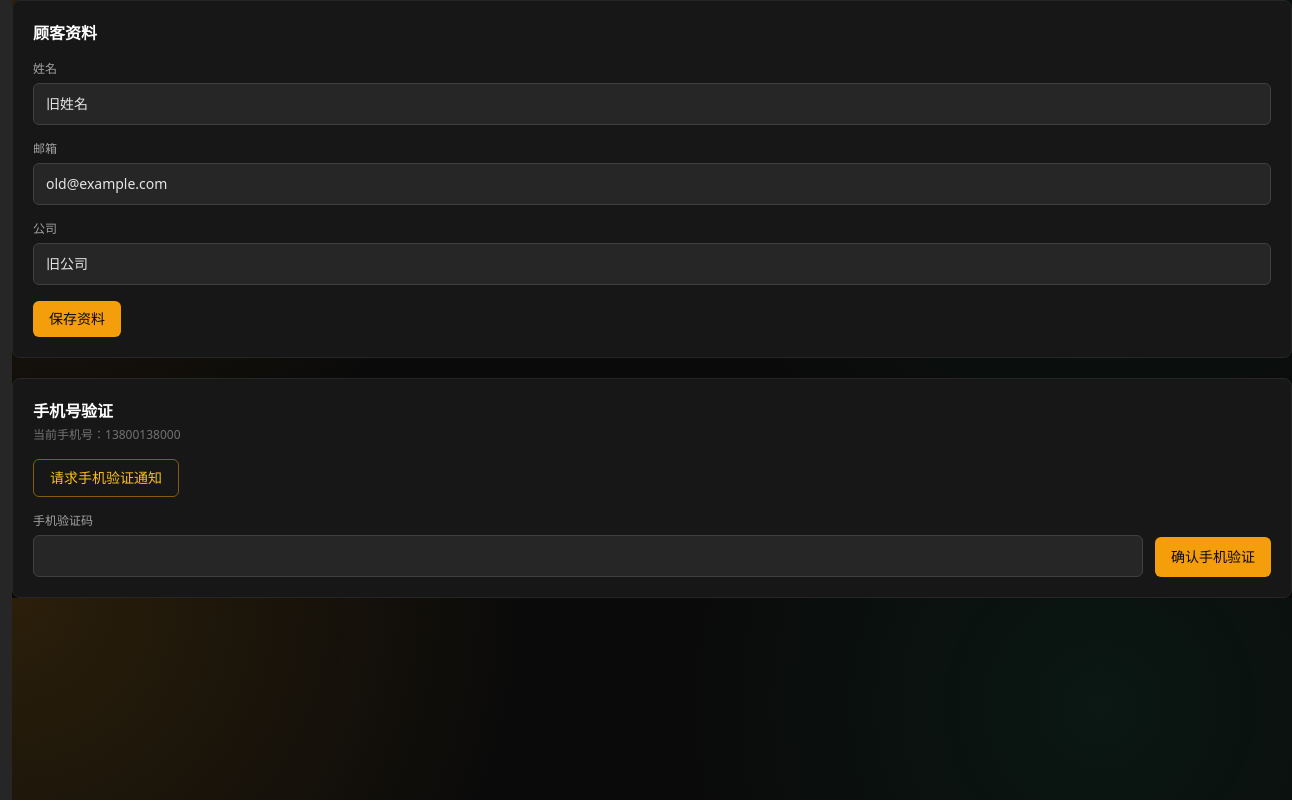
CustomerProfilePanel › updates only the editable customer profile fields and refreshes the account
Step 1. Replace the text in the field labelled "姓名" with "新姓名" → (652, 104), box 33,83 -> 1271,125
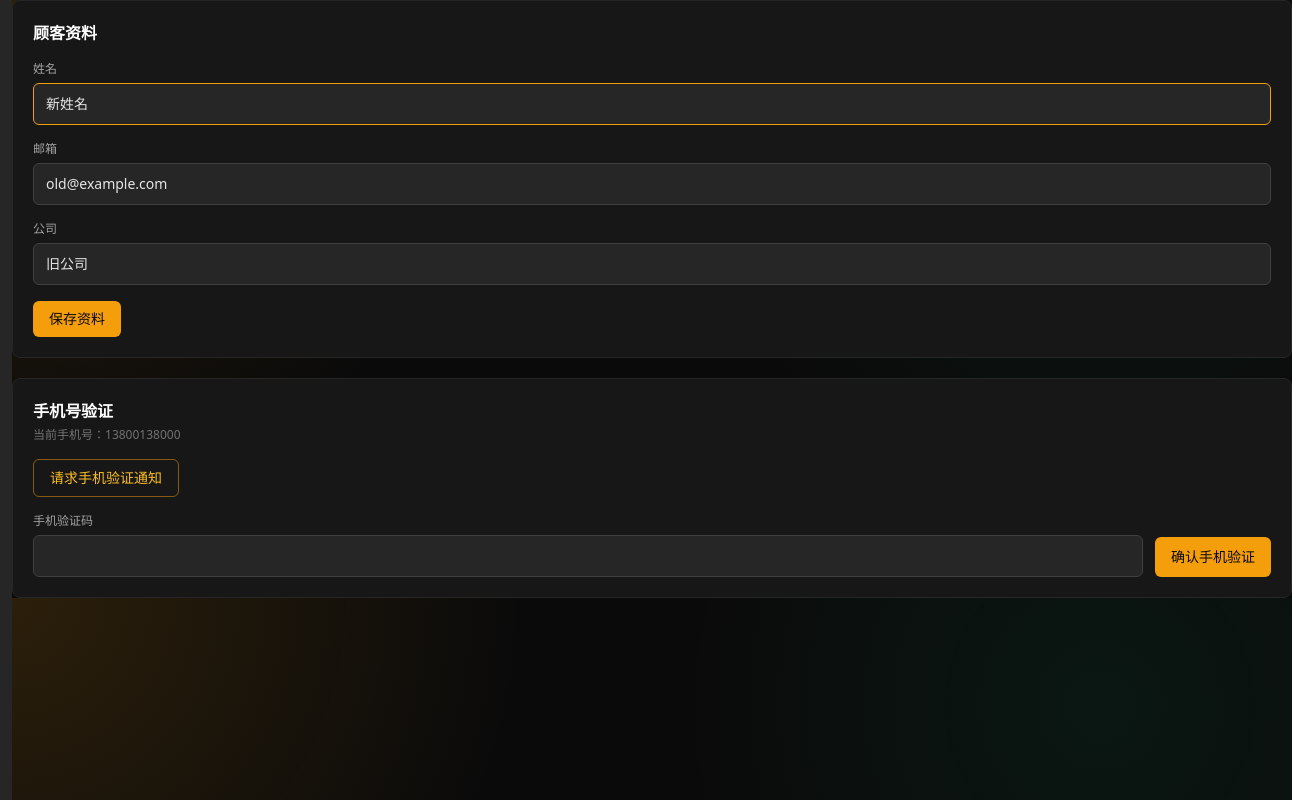
Step 2. Replace the text in the field labelled "邮箱" with "new@example.com" → (652, 184), box 33,163 -> 1271,205
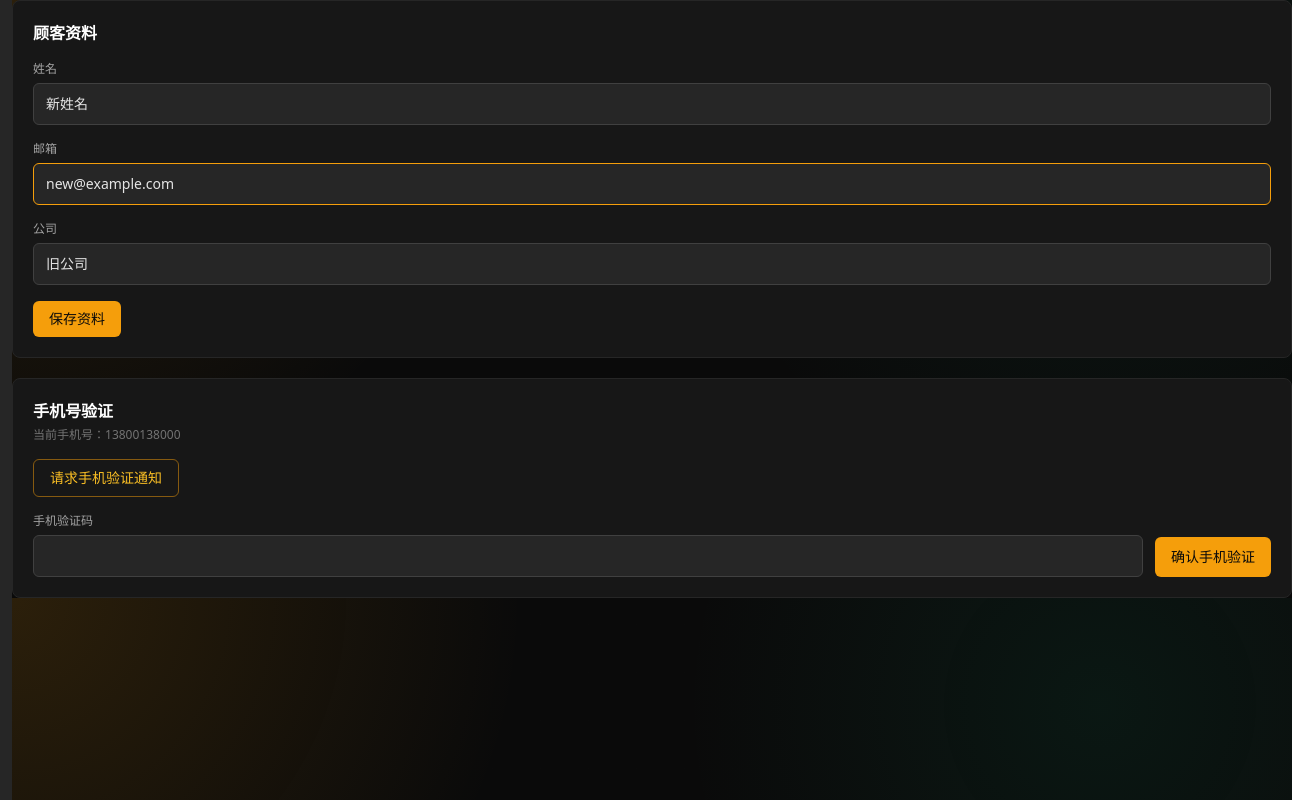
Step 3. Replace the text in the field labelled "公司" with "新公司" → (652, 264), box 33,243 -> 1271,285
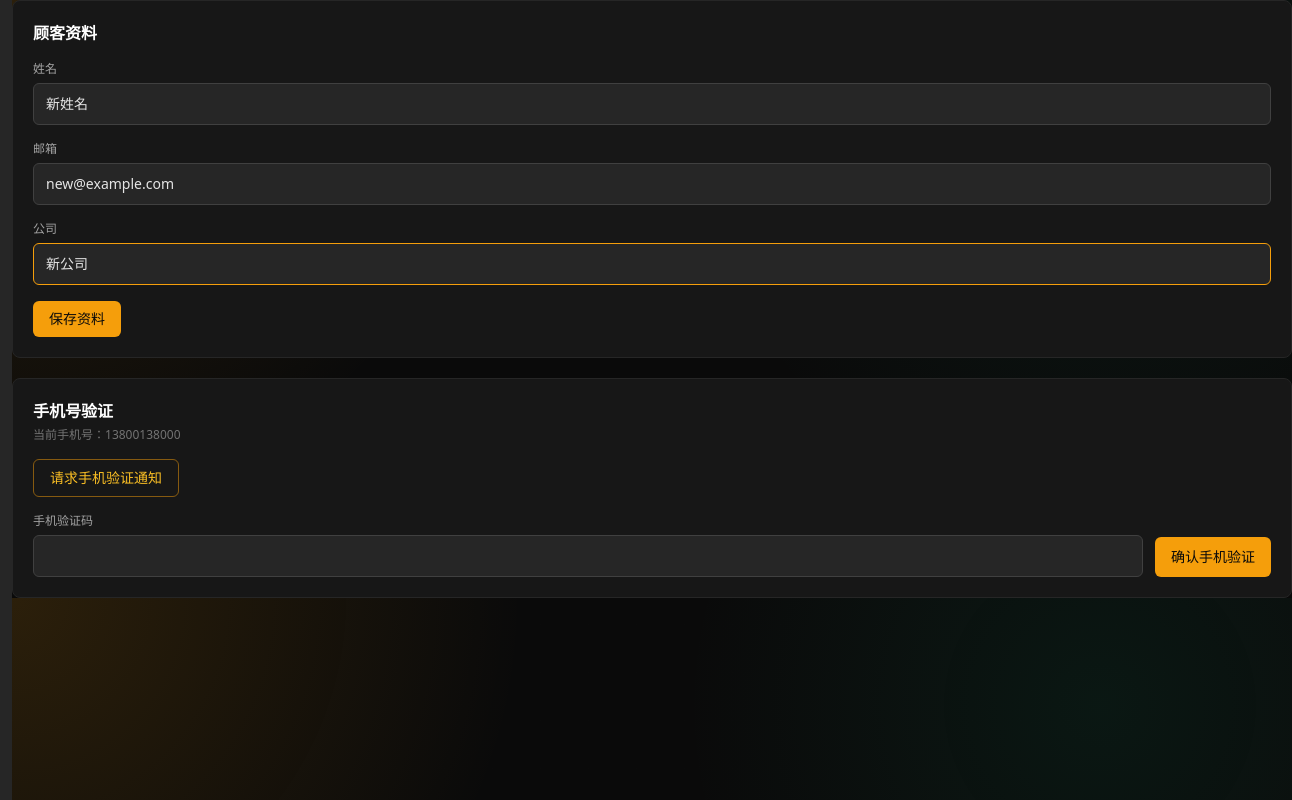
Step 4. Click the button "保存资料" → (77, 319), box 33,301 -> 121,337
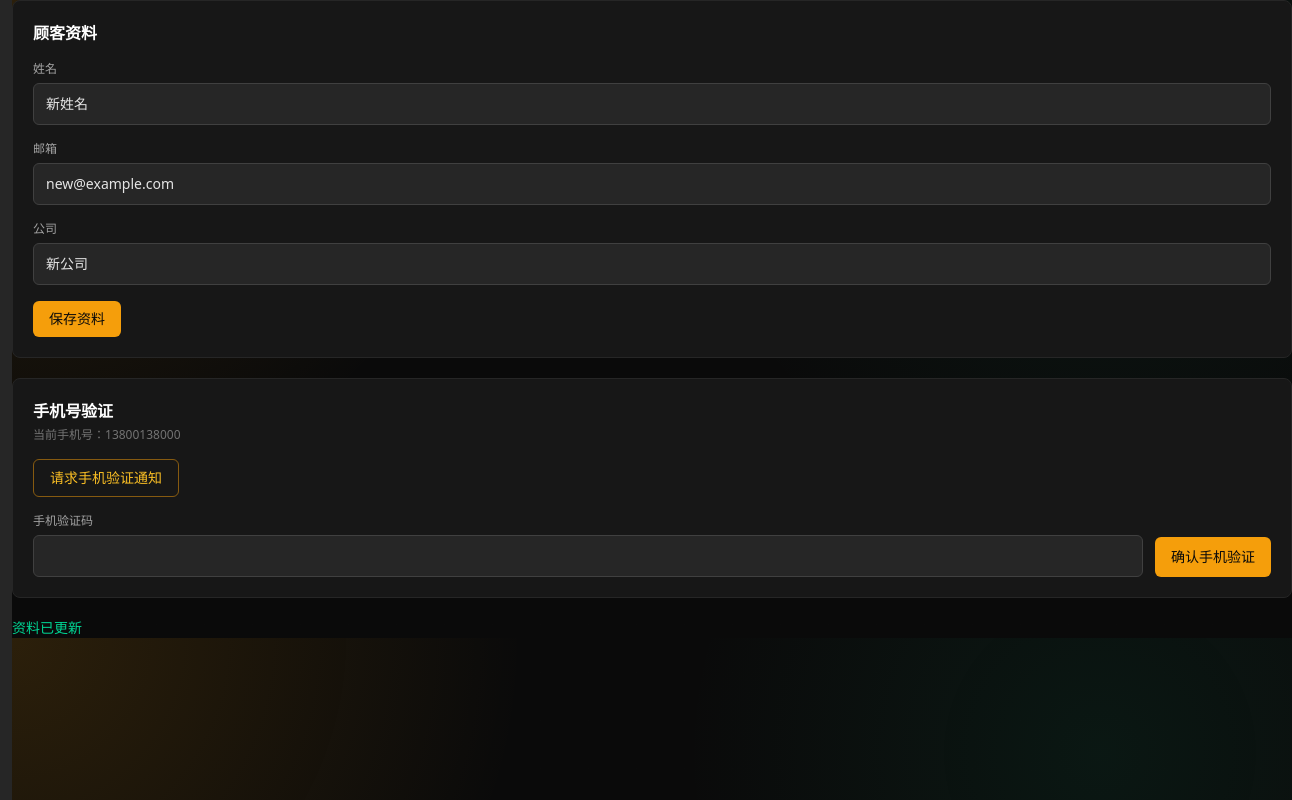
Check: the message reads "资料已更新", box 12,618 -> 82,637
